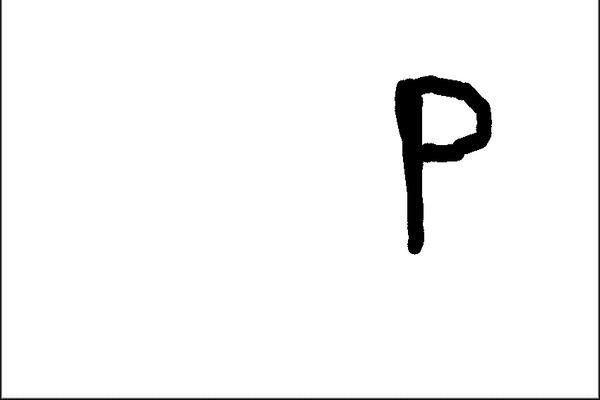P: (384, 64, 502, 265)
